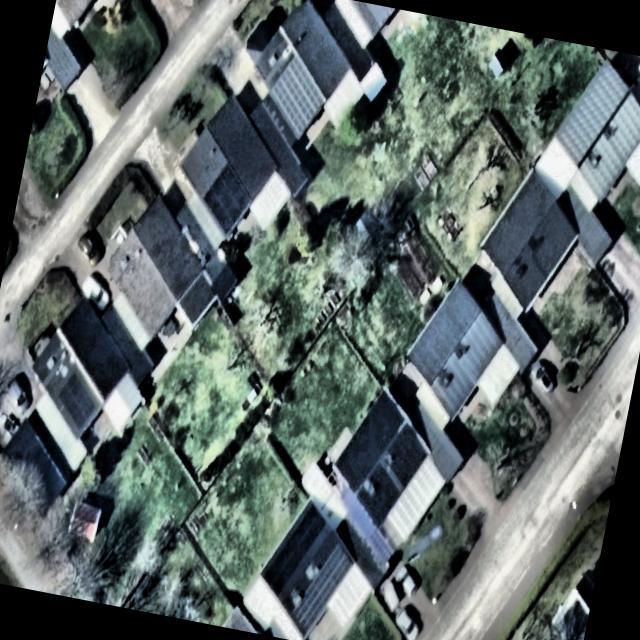roof_pv: (265, 52, 332, 140), (197, 158, 256, 240), (52, 366, 105, 435), (316, 544, 358, 606), (290, 568, 326, 636)
